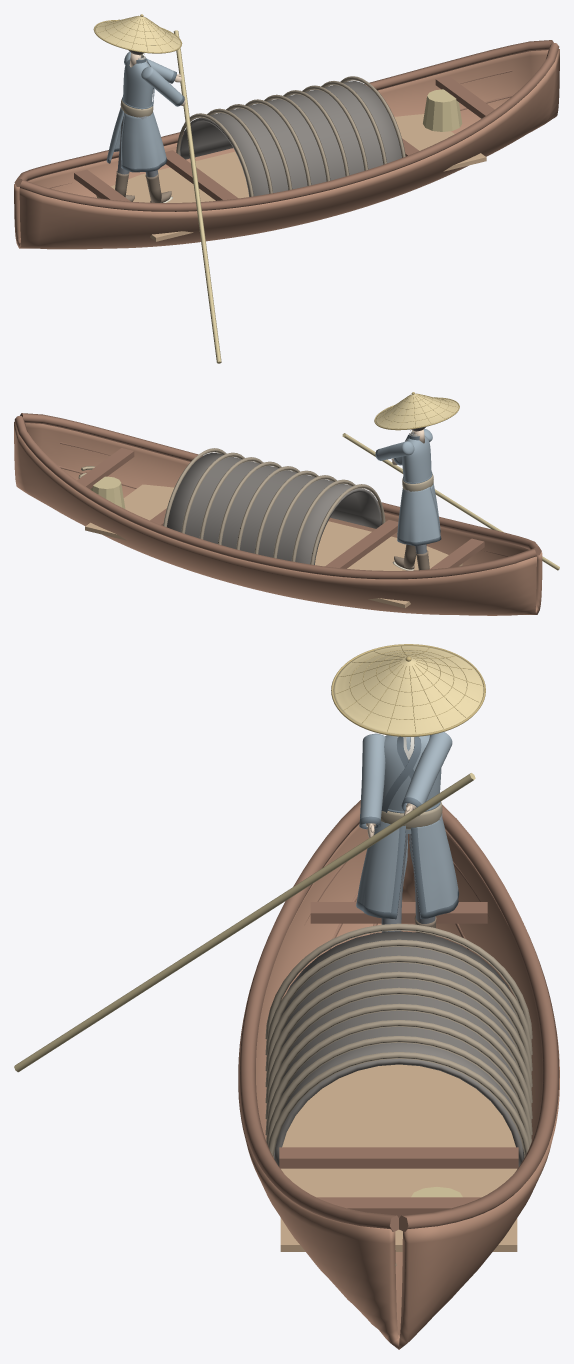
The model's file is boat.glb.
The picture shows the model from 3 angles, top to bottom: view 1: azimuth 30°, elevation 25°; view 2: azimuth 150°, elevation 25°; view 3: azimuth 270°, elevation 25°; orthographic projection. The views are drawn at different scales.
Parts seen in each view (by area): view 1: boat; view 2: boat; view 3: boat.
Part boxes in pixels (<box>): boat: <box>14,14,559,363</box>; boat: <box>14,392,559,615</box>; boat: <box>14,644,559,1349</box>.
Bounding box in the file's own units: 5.68 × 2.59 × 2.88.
